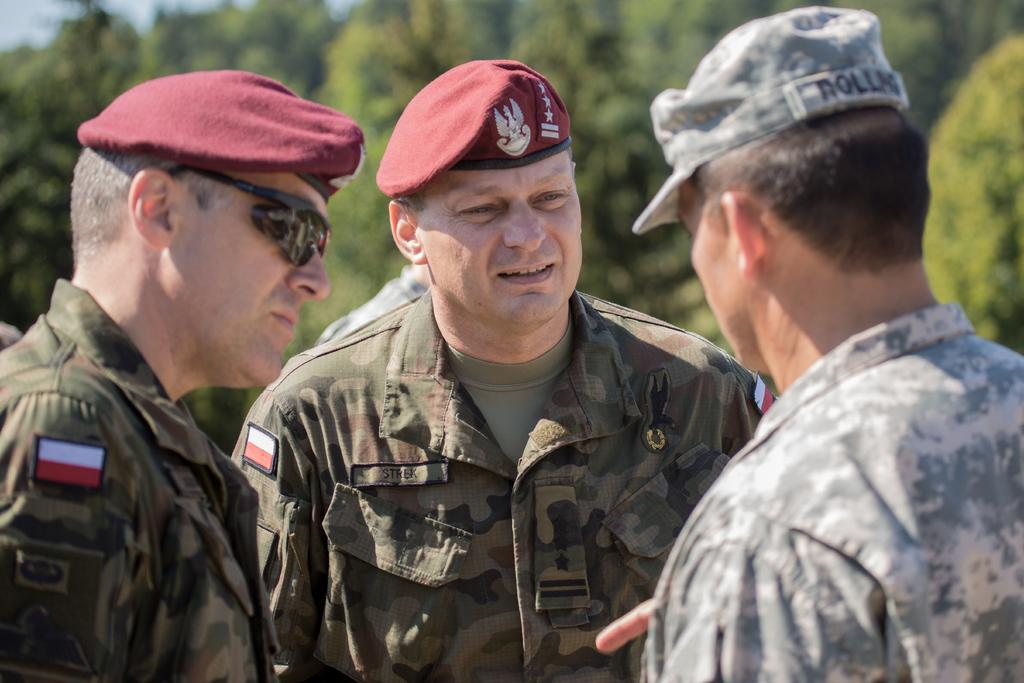Hat: (626, 0, 920, 249), (62, 54, 365, 196), (366, 56, 572, 204)
